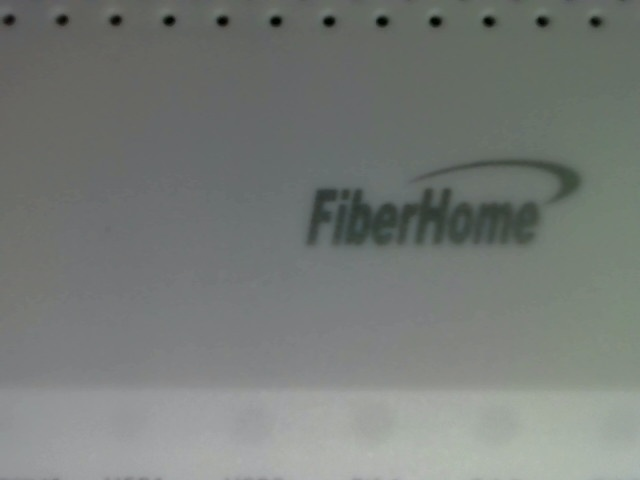AI_FiberHome: (287, 148, 590, 272)
